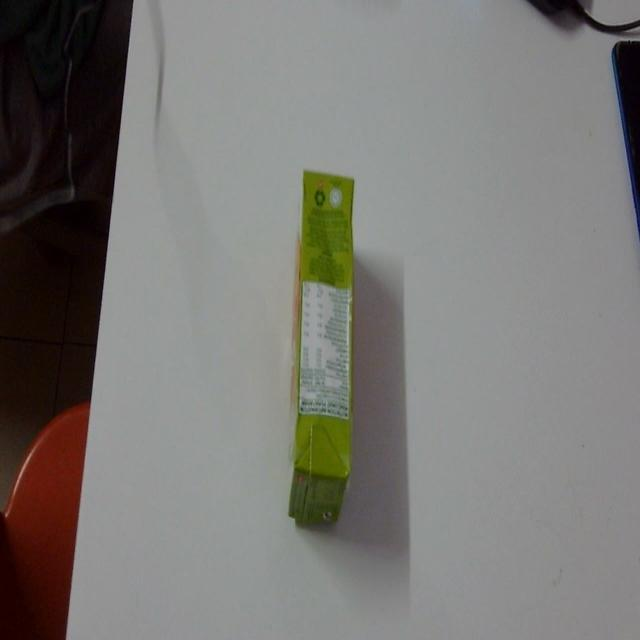plastic_laydown_90rotation: (282, 155, 366, 540)
